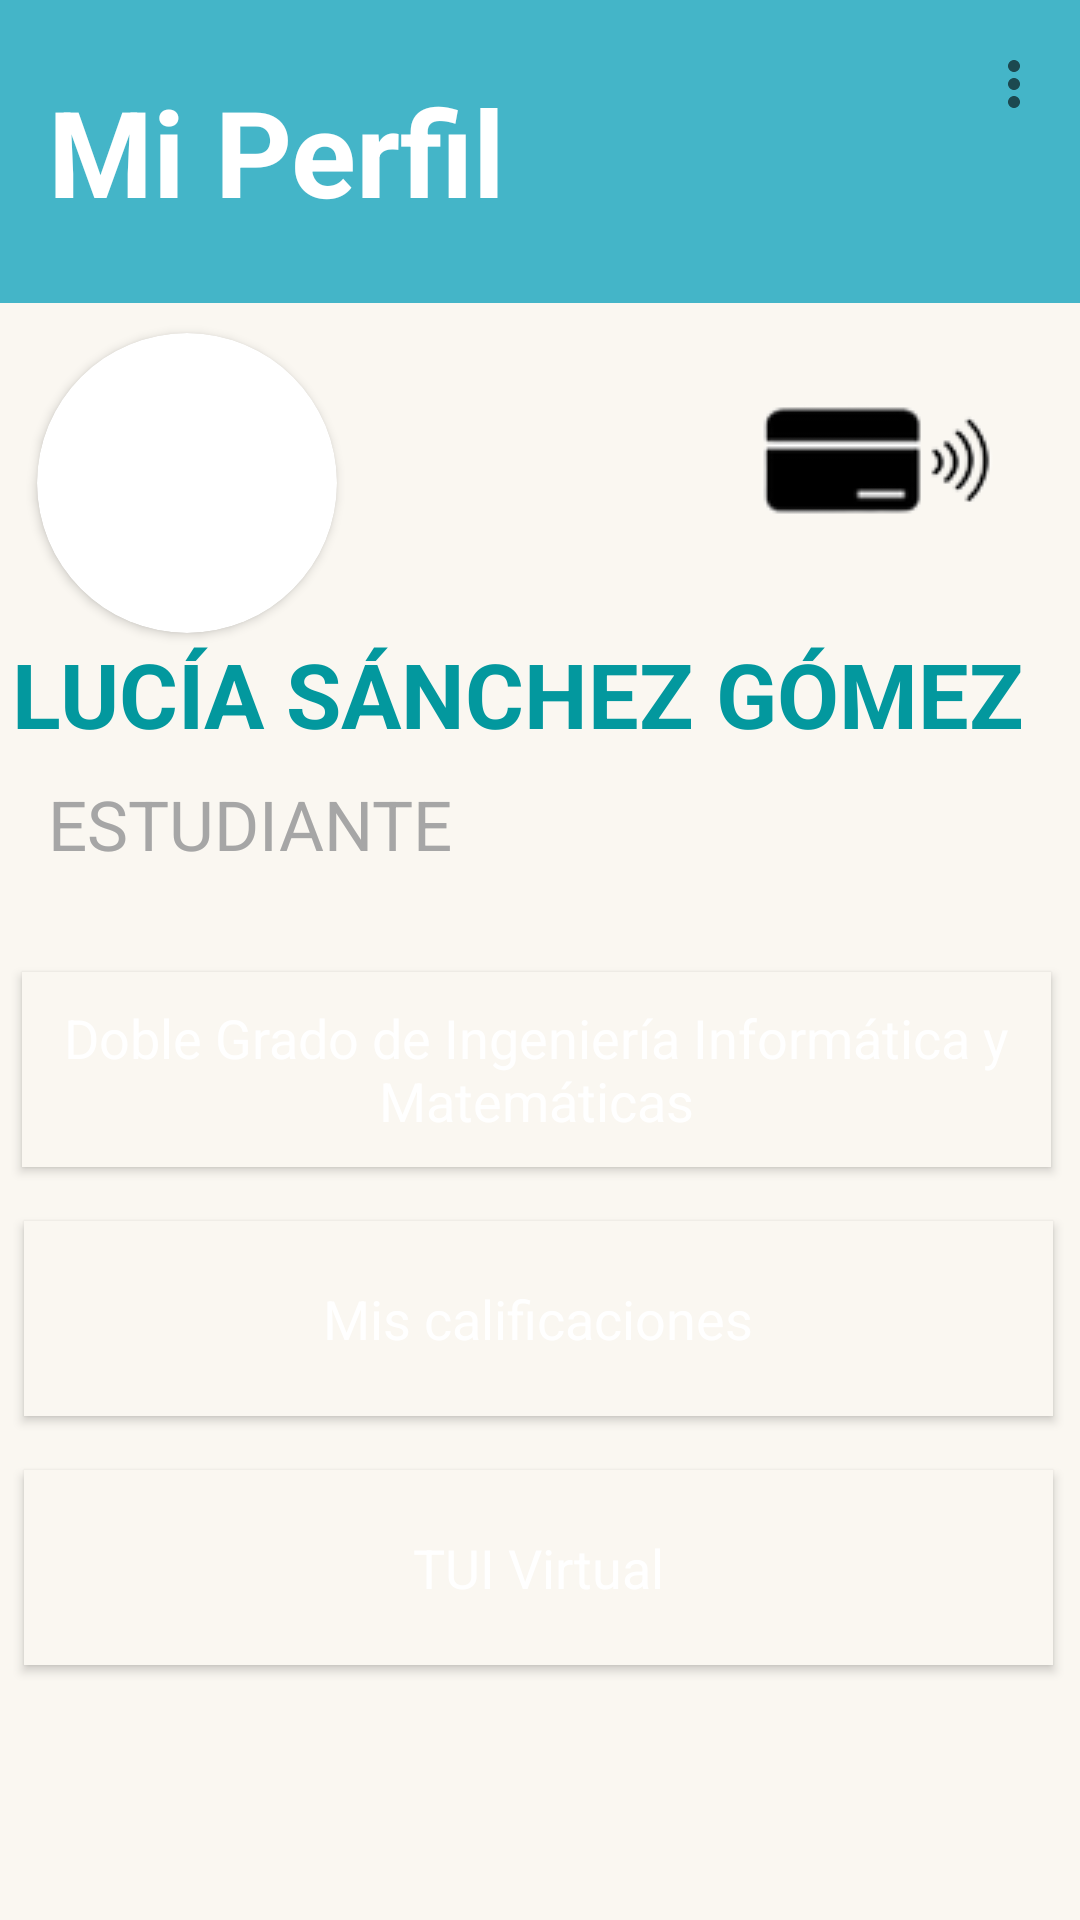

Named icons in this screenshot (1080 × 1920) and their centers, point (x, y):
tarjeta: point (877, 460)
